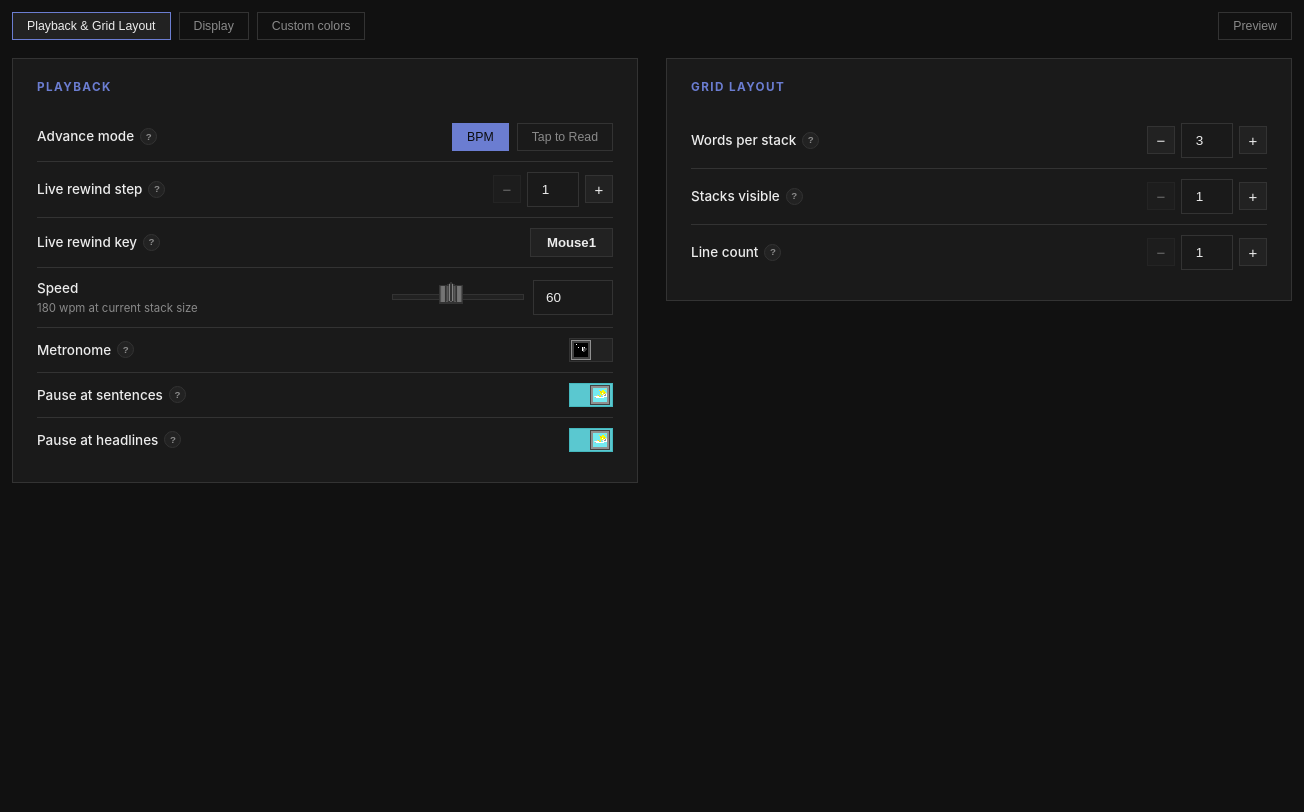
Test: ReaderSettingsEditor — Settings host › renders Display as two columns and folds preview below Colors when open
The width and height of the screenshot is (1304, 812).
What coordinates should you click on to do the following:
click the tab "Display"
I would click on:
 (214, 26)
Its box is [178,12,249,40].
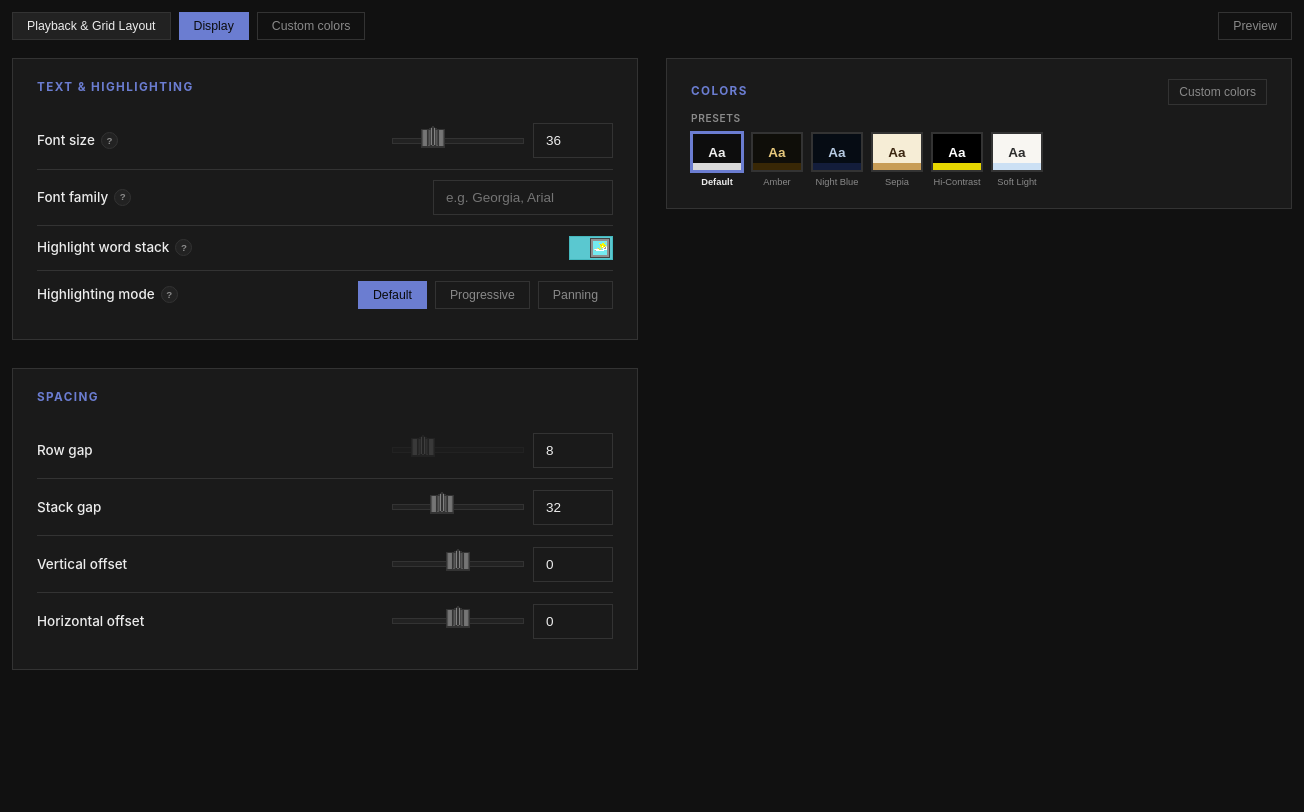
Now the heading "Text & Highlighting" is shown, box [37,80,194,94]
Now the heading "Colors" is shown, box [691,83,748,101]
Now the heading "Spacing" is shown, box [37,390,99,404]
What coordinates should you click on to do the following:
click the button "Preview"
I would click on:
 (1255, 26)
Its box is [1218,12,1292,40].
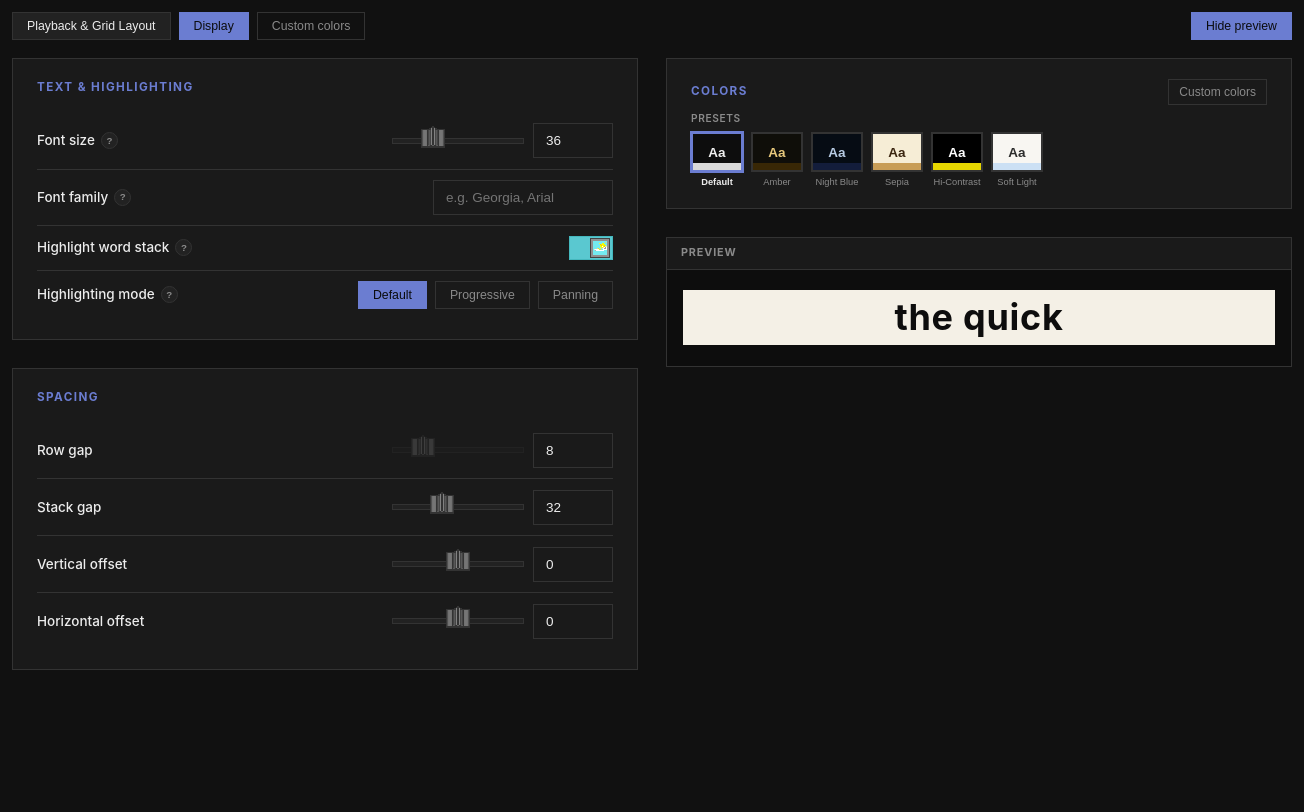
Now the element with class "rse-preview-inline" is shown, box [666,238,1292,367]
